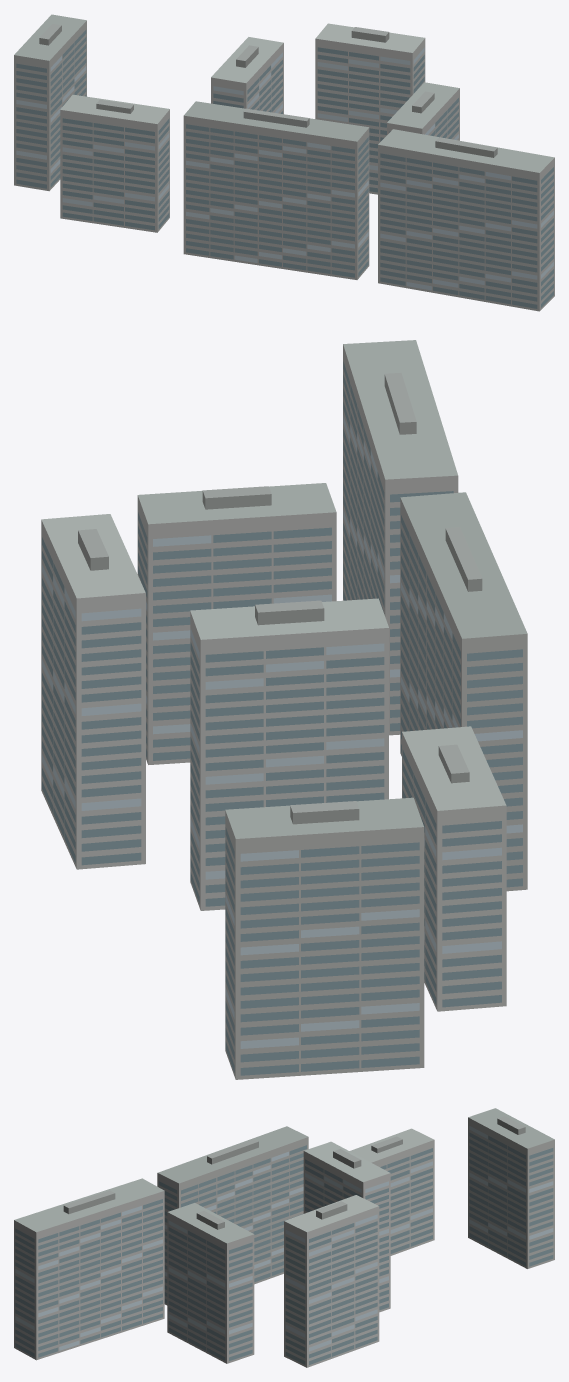
The model's file is apt-a13684605.glb.
3 views of the same model, one above another, from view 1: azimuth 30°, elevation 25°; view 2: azimuth 150°, elevation 25°; view 3: azimuth 270°, elevation 25° (orthographic). The views are drawn at different scales.
Visible parts, largest first — view 1: apt-a13684605; view 2: apt-a13684605; view 3: apt-a13684605.
Part boxes in pixels (x1,y1,x2,y2): apt-a13684605: (14,14,554,311); apt-a13684605: (41,340,527,1079); apt-a13684605: (14,1108,554,1367).
Bounding box in the file's own units: 114 × 54 × 187.
